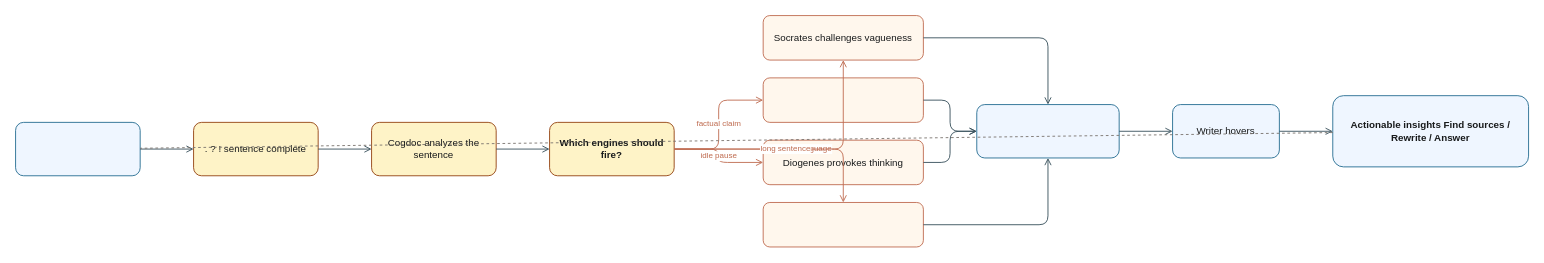
This 1544x263 diagram has some shape labels left out. The shapes that lost their labels are listed below. From the top down, each one's box as (x1, y1, x2, y2) in pixels, then its label:
(762, 77, 923, 122): Galileo verifies claim
(15, 121, 140, 176): Writer types a sentence
(976, 104, 1119, 158): Sentence gets colored underline
(762, 202, 923, 247): Aristotle offers scaffold
